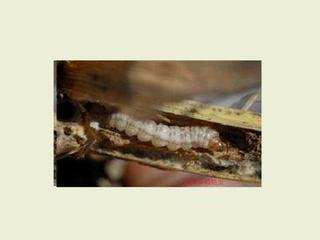pest: (102, 108, 238, 165)
